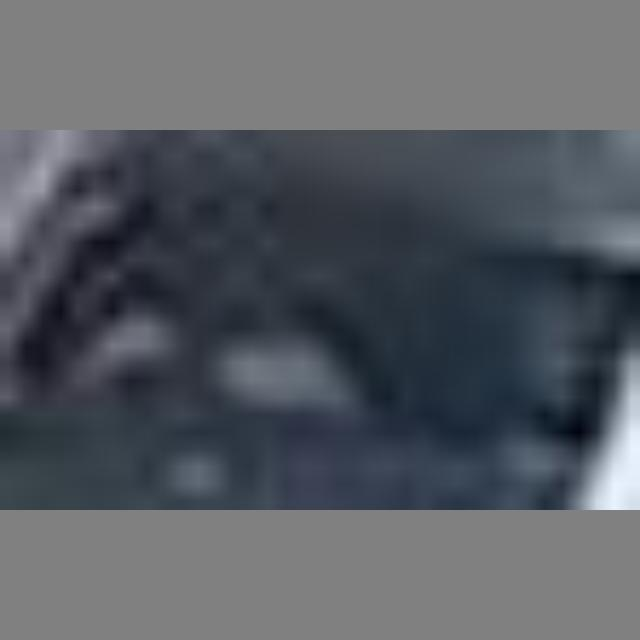tidak-pakai: (104, 251, 346, 459)
